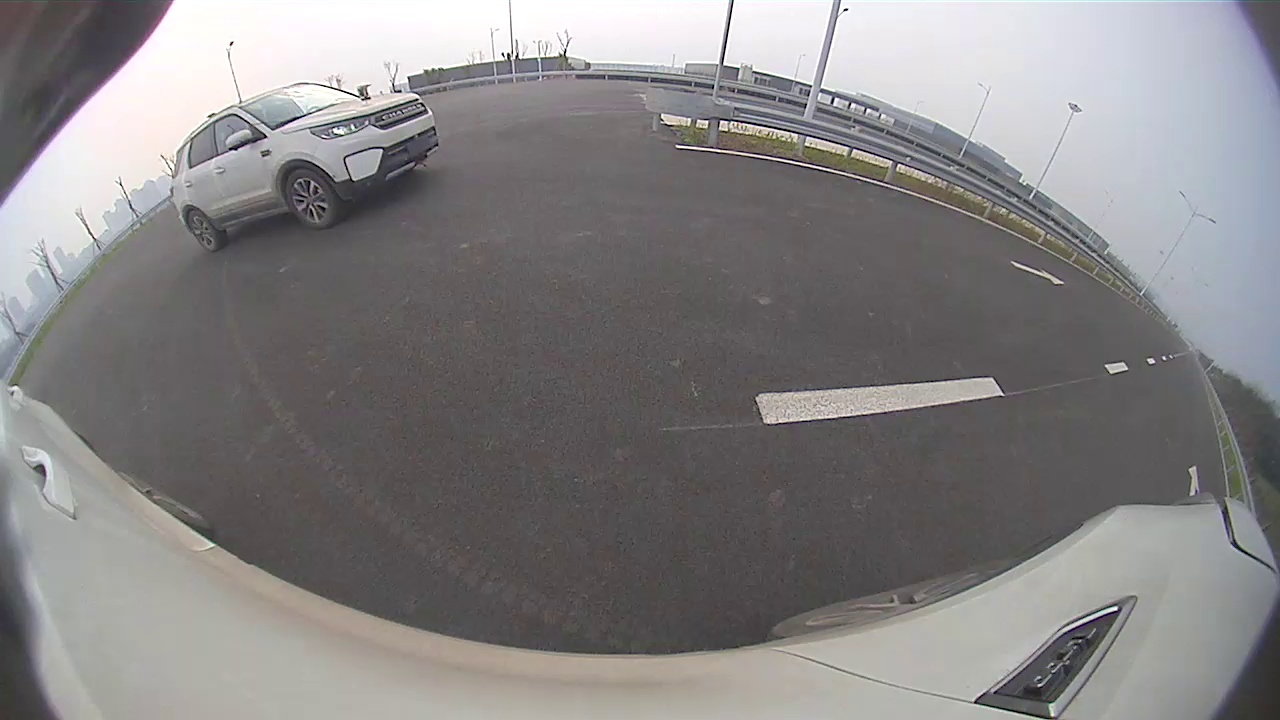car: (173, 82, 440, 253)
front: (284, 167, 338, 233)
rear: (186, 210, 222, 252)
